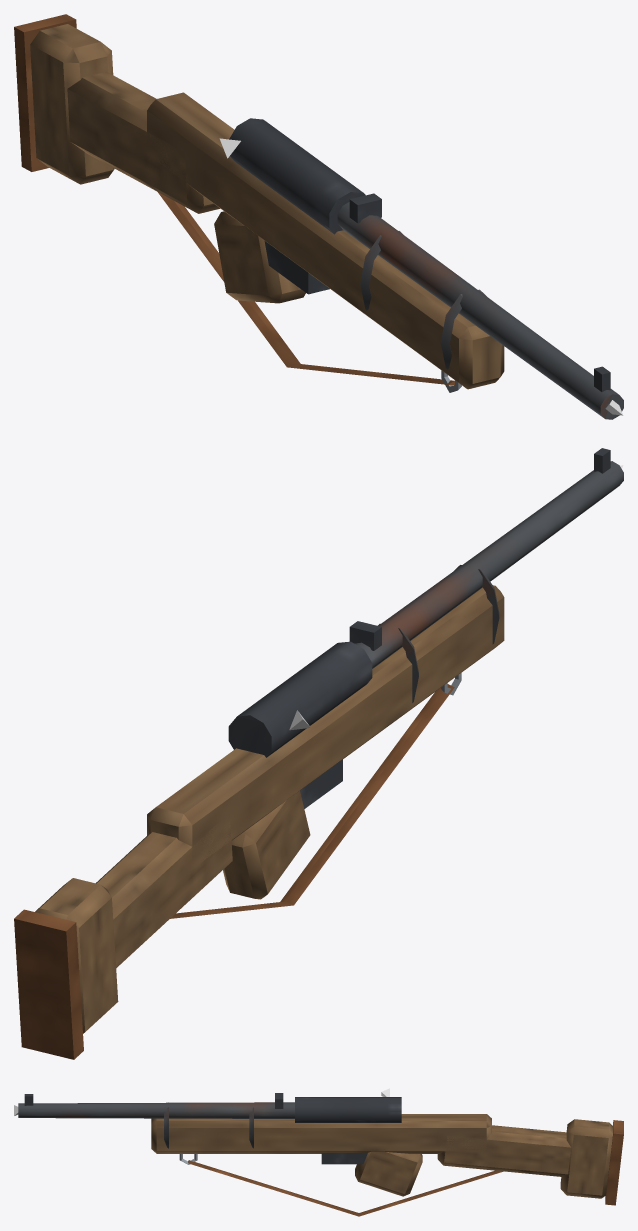
The model's file is SM_Rifle.fbx.
The picture shows the model from 3 angles, top to bottom: view 1: azimuth 30°, elevation 25°; view 2: azimuth 150°, elevation 25°; view 3: azimuth 270°, elevation 25°; orthographic projection. The views are drawn at different scales.
Parts seen in each view (by area): view 1: SM_Rifle; view 2: SM_Rifle; view 3: SM_Rifle.
Boxes of the visible parts, <box> form: SM_Rifle: <box>14,14,623,419</box>; SM_Rifle: <box>14,448,623,1059</box>; SM_Rifle: <box>18,1093,623,1216</box>.
Size of the model in its own units: 0.4085 by 1.24 by 5.73.
Materials: 1 (1 with a texture image).
